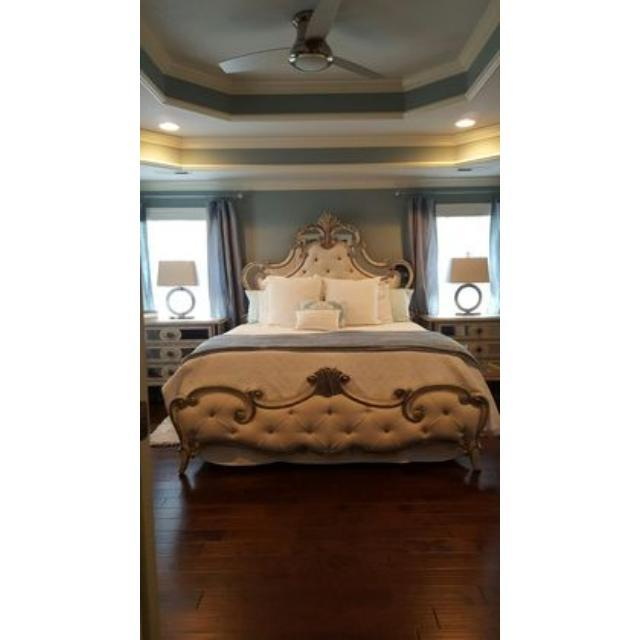bed: (162, 212, 498, 473)
curtain: (206, 199, 248, 324), (404, 195, 439, 318), (490, 196, 500, 314), (142, 204, 152, 309)
dresser: (146, 319, 228, 386), (430, 318, 500, 381)
lamp: (158, 261, 198, 318), (450, 258, 489, 312)
light: (219, 0, 381, 78)
rug: (140, 436, 159, 639), (149, 416, 179, 446)
